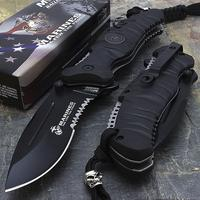knife: (2, 18, 148, 195)
